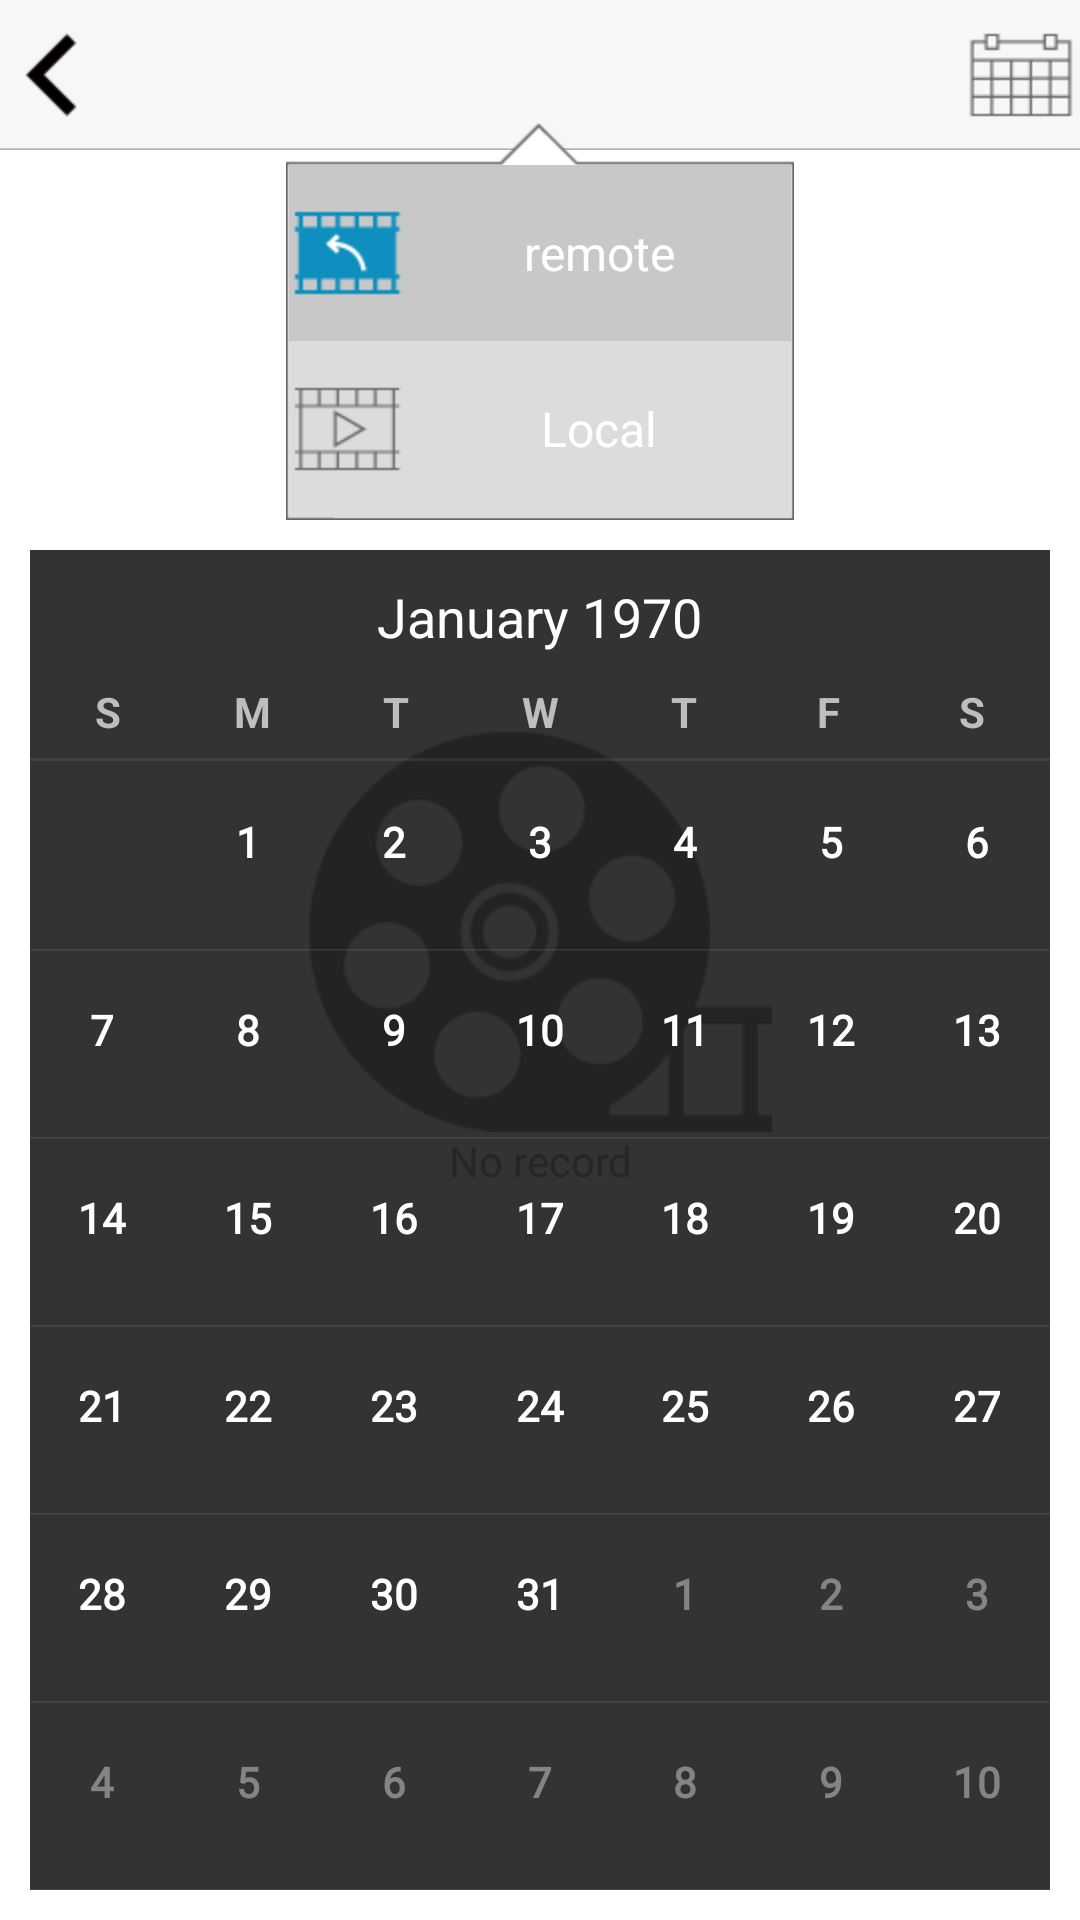

Screen size 1080x1920. Icon name, then its box in pixels as (x1, y1, x2, y2):
back: (25, 33, 77, 117)
